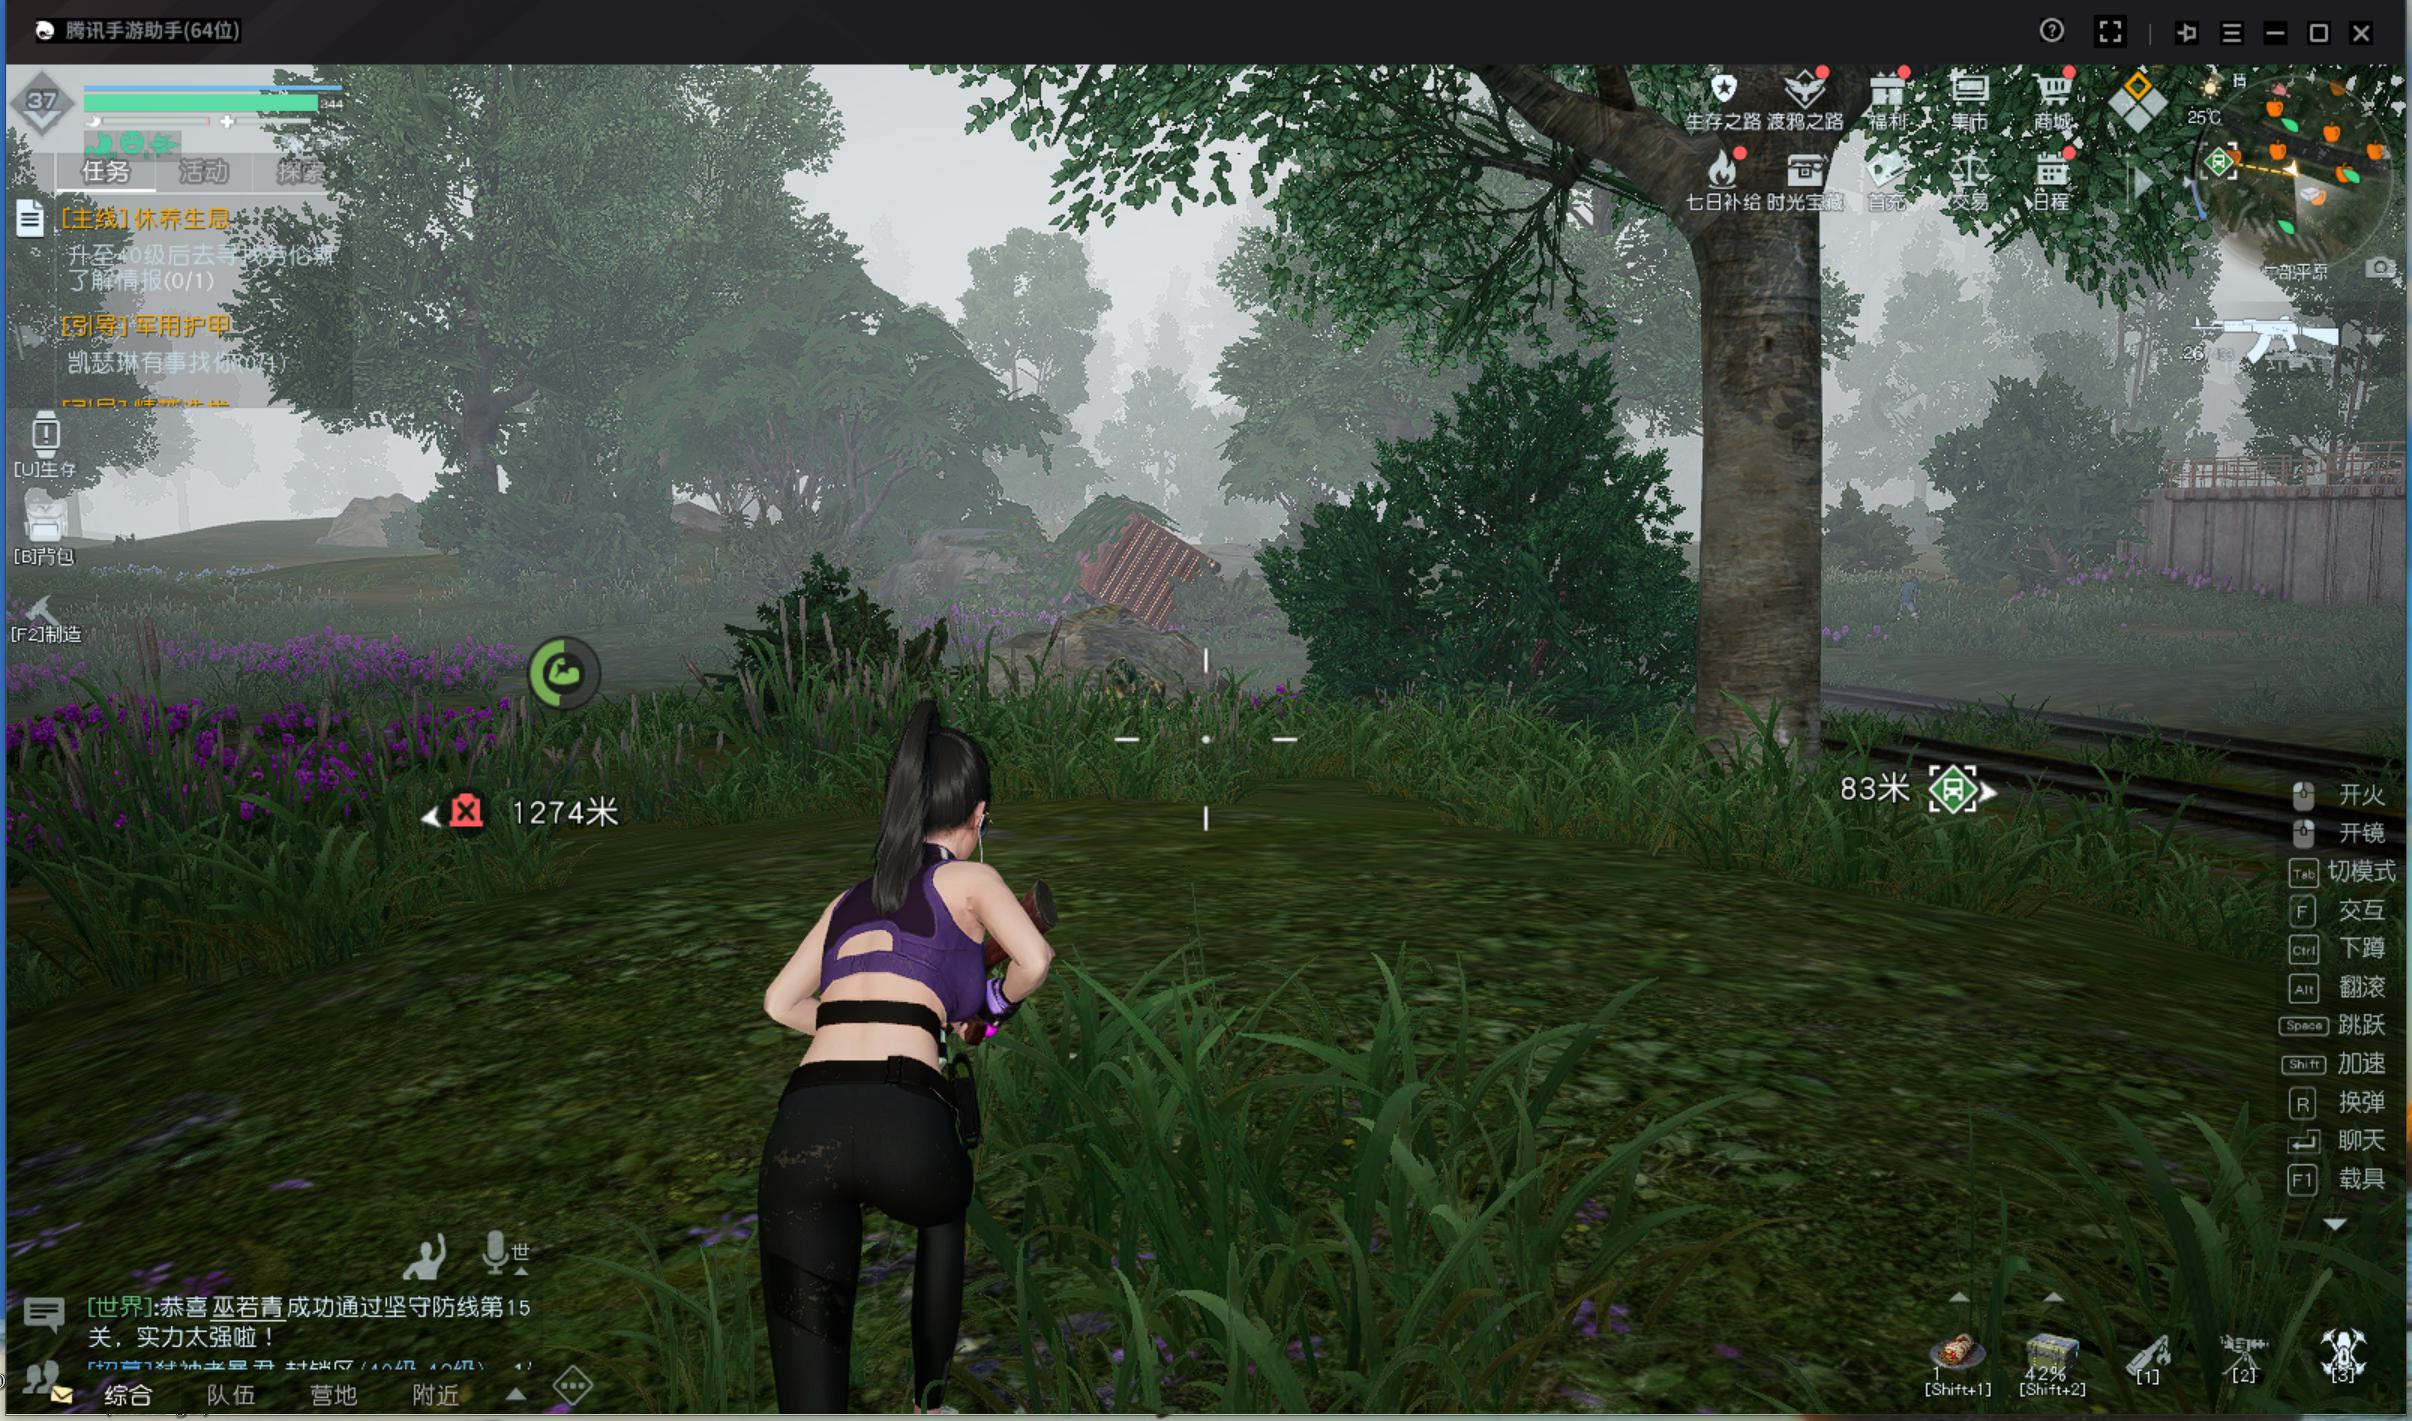tree: (1647, 254, 1874, 793)
